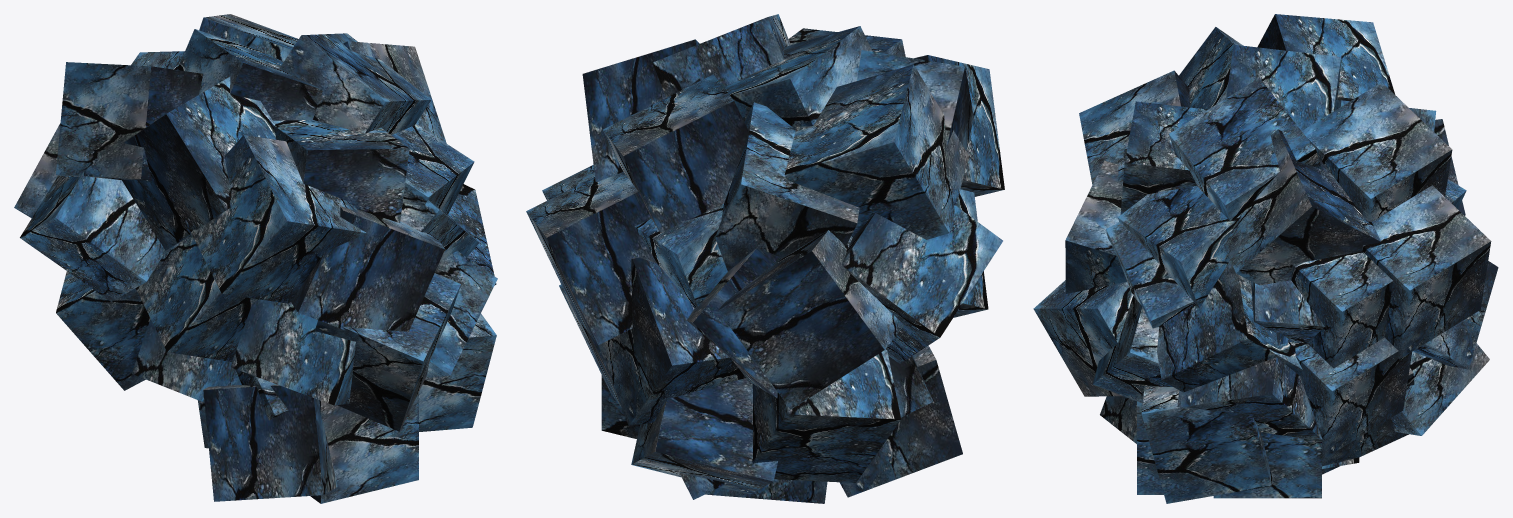
The model's file is Decilate 1.fbx.
3 views of the same model, side by side, from view 1: azimuth 30°, elevation 25°; view 2: azimuth 150°, elevation 25°; view 3: azimuth 270°, elevation 25° (orthographic). The views are drawn at different scales.
Visible parts, largest first — view 1: Cube.013; view 2: Cube.013; view 3: Cube.013.
Part boxes in pixels (x1,y1,x2,y2): Cube.013: [14, 14, 497, 503]; Cube.013: [526, 14, 1004, 503]; Cube.013: [1033, 14, 1498, 503].
Size of the model in its own units: 911 by 928 by 957.
2 materials, 2 textured.
